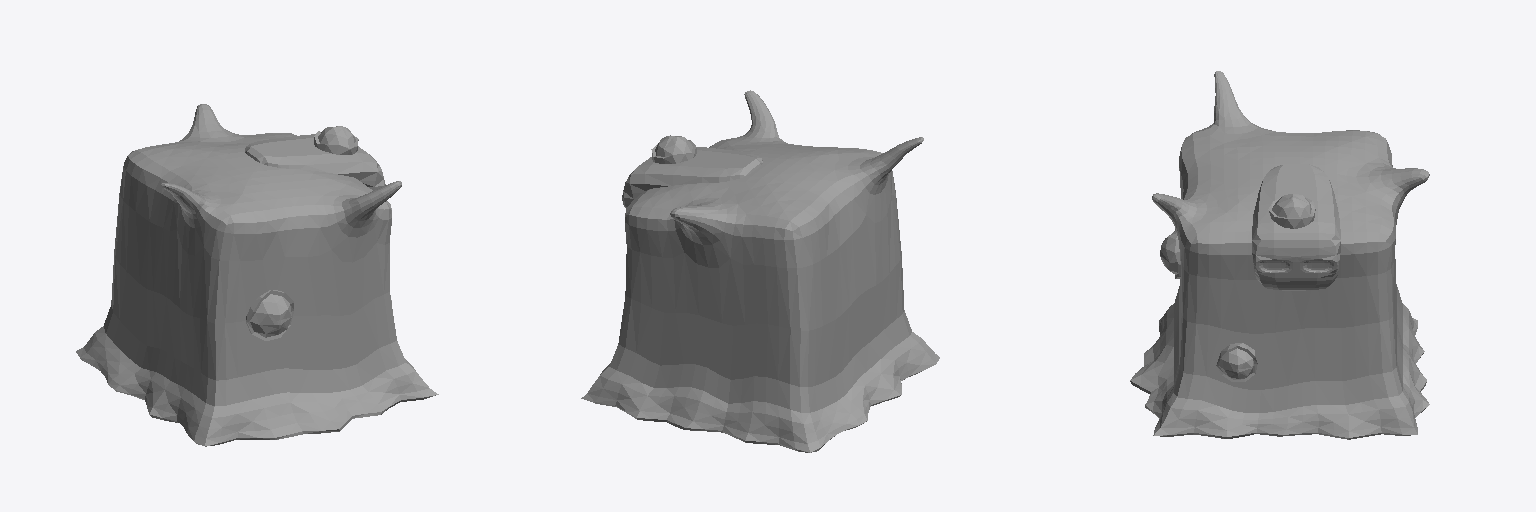
The model's file is MawGooey.obj.
3 views of the same model, side by side, from view 1: azimuth 30°, elevation 25°; view 2: azimuth 150°, elevation 25°; view 3: azimuth 270°, elevation 25° (orthographic).
Parts seen in each view (by area): view 1: MawGooey_Icosphere; view 2: MawGooey_Icosphere; view 3: MawGooey_Icosphere.
Part boxes in pixels (x1,y1,x2,y2): MawGooey_Icosphere: (76,104,438,446); MawGooey_Icosphere: (581,90,939,452); MawGooey_Icosphere: (1130,71,1429,439).
Size of the model in its own units: 2.71 by 2.59 by 2.81.